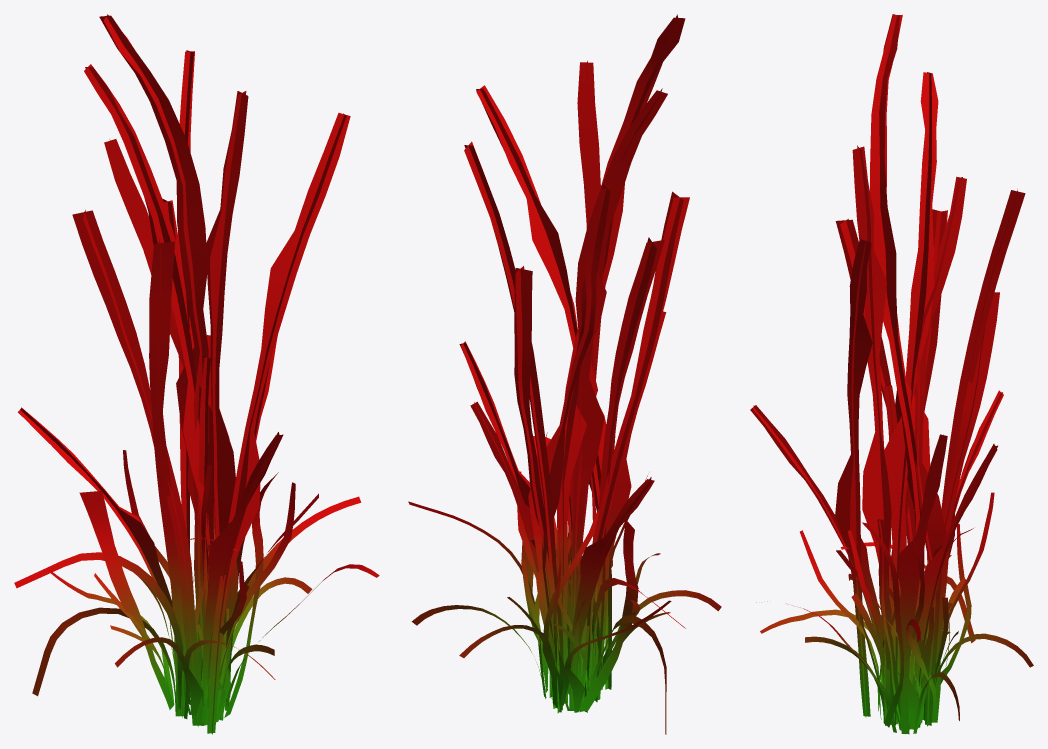
The model's file is slBiJ_Var5_LOD0.fbx.
The picture shows the model from 3 angles, left to right: view 1: azimuth 30°, elevation 25°; view 2: azimuth 150°, elevation 25°; view 3: azimuth 270°, elevation 25°; orthographic projection. The views are drawn at different scales.
Visible parts, largest first — view 1: _7e26_Var5_LOD0; view 2: _7e26_Var5_LOD0; view 3: _7e26_Var5_LOD0.
Part boxes in pixels (left/top/right/bottom): _7e26_Var5_LOD0: left=14, top=14, right=379, bottom=734; _7e26_Var5_LOD0: left=408, top=14, right=721, bottom=734; _7e26_Var5_LOD0: left=750, top=14, right=1033, bottom=734.
Bounding box in the file's own units: 42.82 × 94.72 × 36.62.
